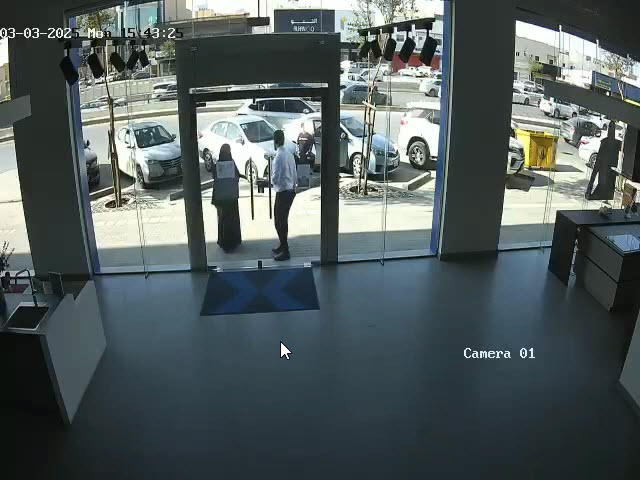employee: (270, 129, 298, 261)
female: (215, 131, 249, 261)
